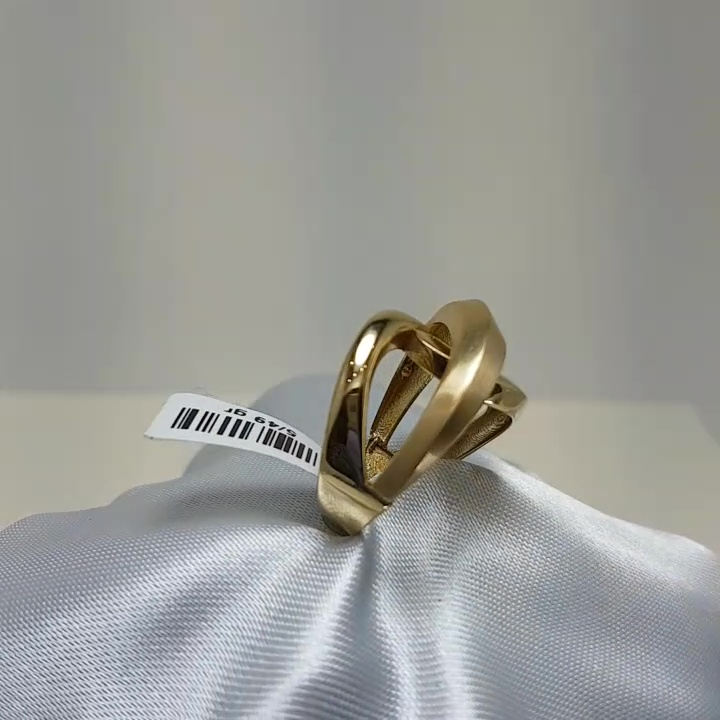Ring 3: (281, 287, 546, 579)
